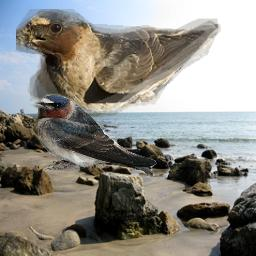Swallow: (16, 9, 221, 120), (30, 93, 157, 177)
